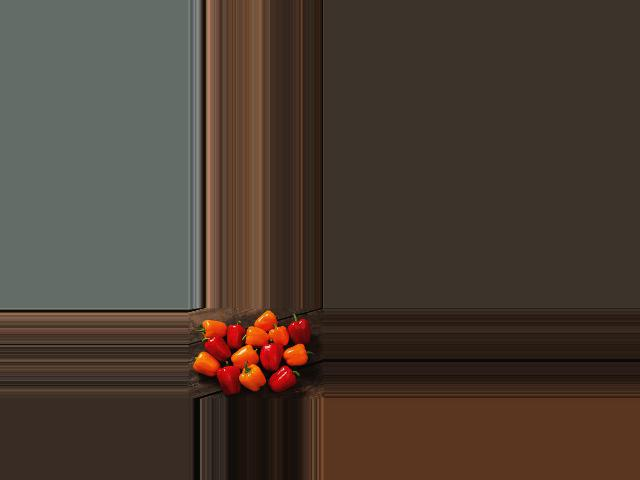bell_pepper: (192, 351, 227, 381)
